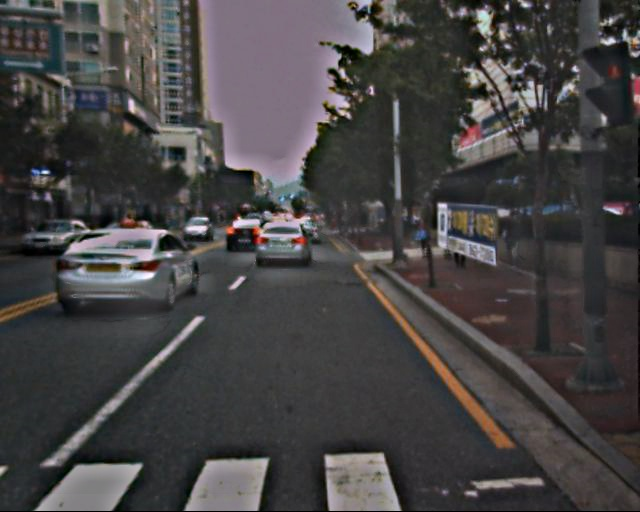person: (499, 213, 523, 272), (449, 221, 470, 273), (415, 217, 433, 262)
